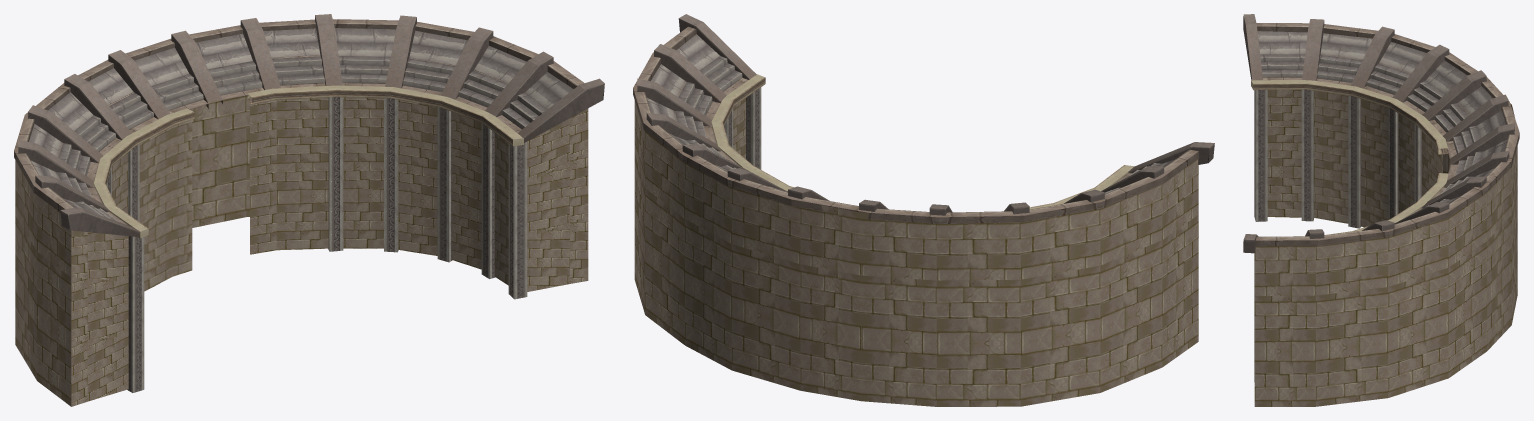
File: cs_lobbynews02_jjc_weiqiang.FBX
The picture shows the model from 3 angles, left to right: view 1: azimuth 30°, elevation 25°; view 2: azimuth 150°, elevation 25°; view 3: azimuth 270°, elevation 25°; orthographic projection. The views are drawn at different scales.
Parts seen in each view (by area): view 1: cs_lobbynews02_jjc_weiqiang; view 2: cs_lobbynews02_jjc_weiqiang; view 3: cs_lobbynews02_jjc_weiqiang.
Boxes of the visible parts, box(x1,y1,x2,y2) form: cs_lobbynews02_jjc_weiqiang: box(14, 14, 604, 406); cs_lobbynews02_jjc_weiqiang: box(633, 14, 1214, 406); cs_lobbynews02_jjc_weiqiang: box(1243, 14, 1519, 406).
Size of the model in its own units: 3233 by 1156 by 1670.
